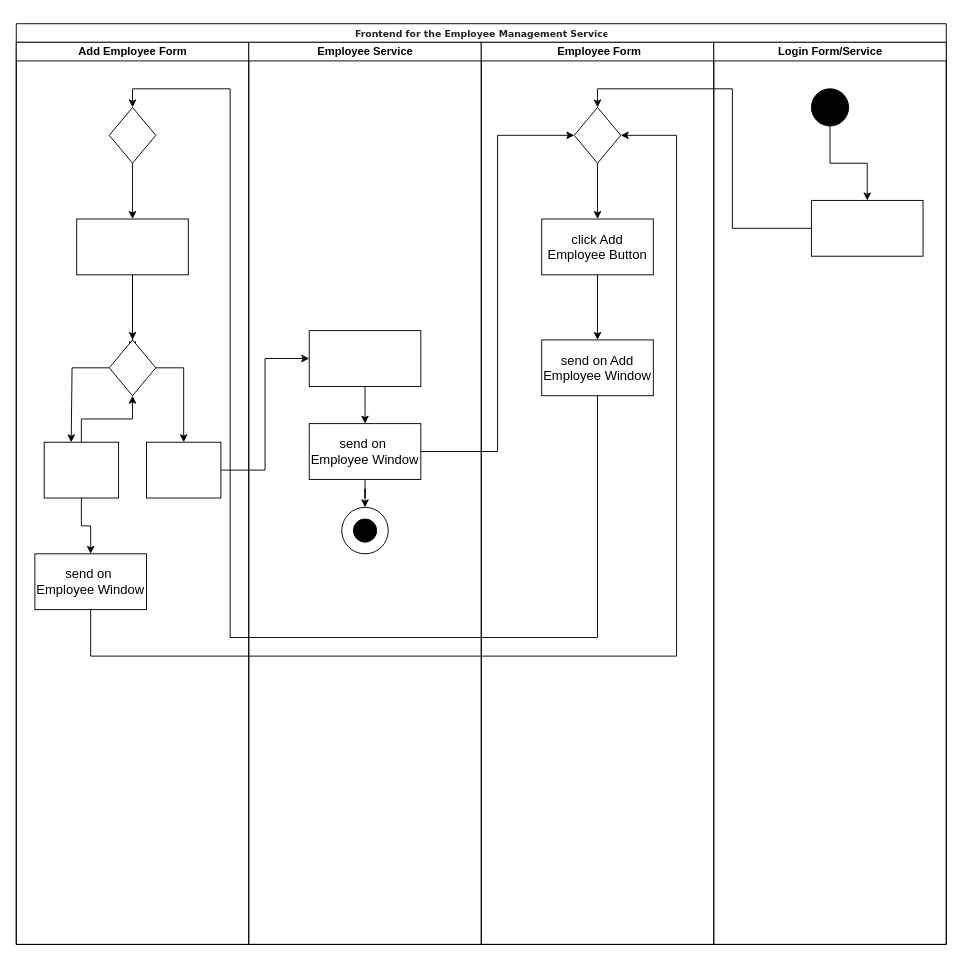
The diagram is 963 pixels wide and 961 high, and some of its shapes have lost their labels. Each missing label, with the centre of its shape:
click on cancel: (81,469)
click on save: (183,469)
Enter data of new Employee: (132,246)
Login and send on Employee: (866,227)
save Employee: (364,358)
